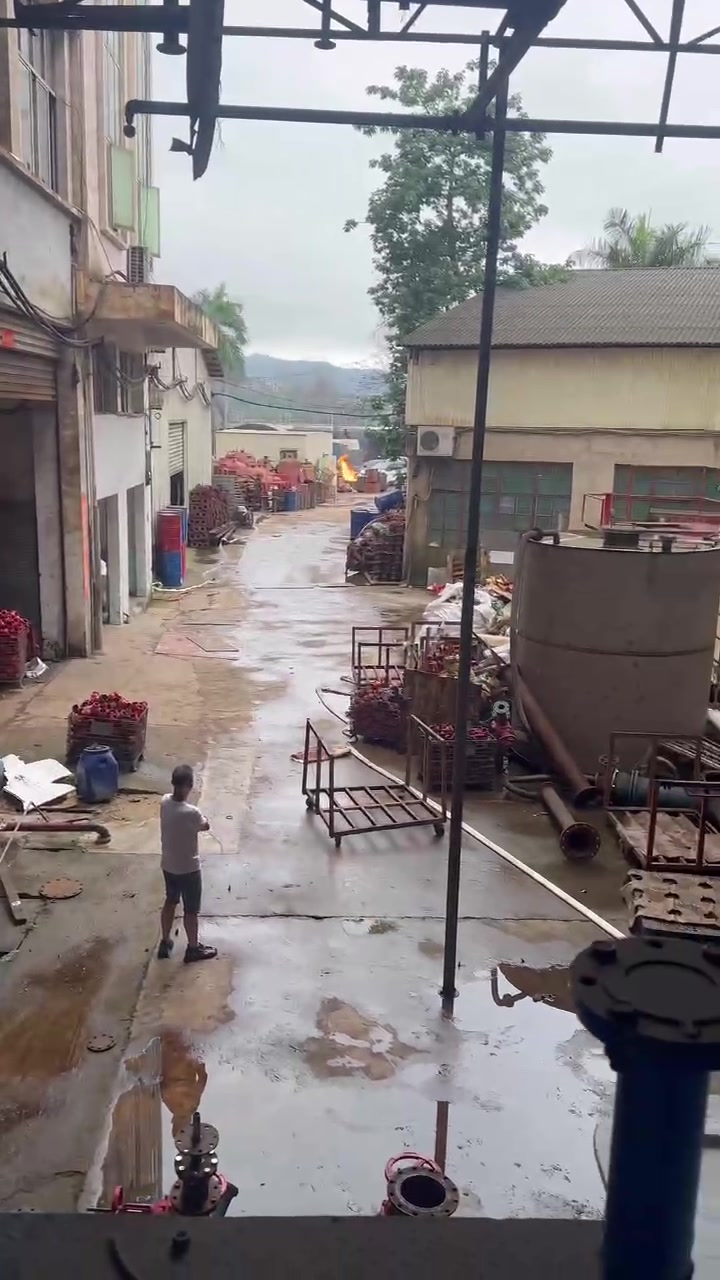fire: (336, 453, 358, 482)
